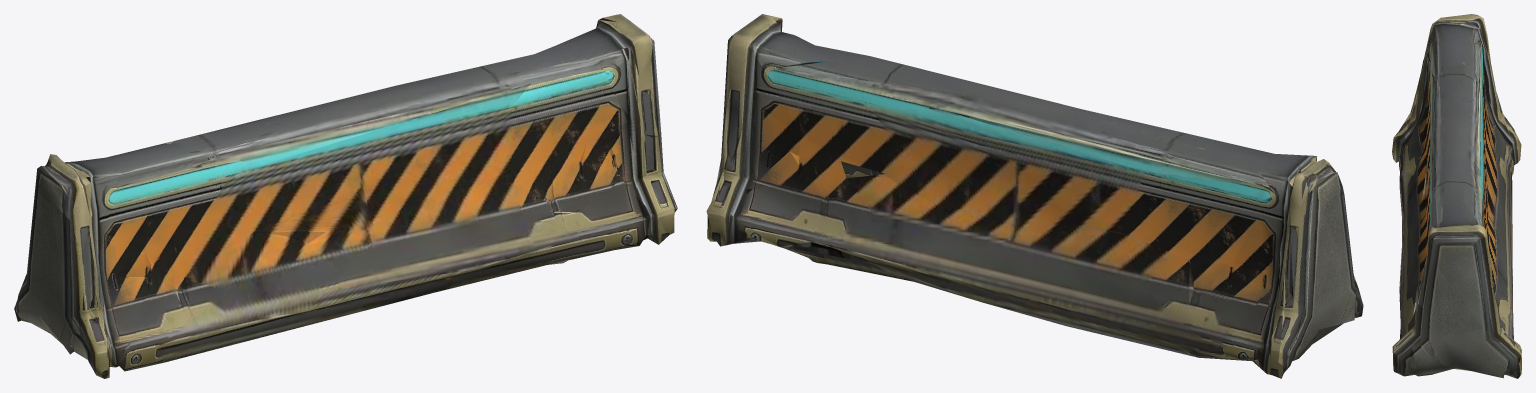
The model's file is barricade.glb.
The picture shows the model from 3 angles, left to right: view 1: azimuth 30°, elevation 25°; view 2: azimuth 150°, elevation 25°; view 3: azimuth 270°, elevation 25°; orthographic projection. The views are drawn at different scales.
Parts seen in each view (by area): view 1: output_unwrapped_game; view 2: output_unwrapped_game; view 3: output_unwrapped_game.
Part boxes in pixels (x1,y1,x2,y2): output_unwrapped_game: (14,14,677,378); output_unwrapped_game: (706,14,1363,378); output_unwrapped_game: (1392,14,1521,378).
Size of the model in its own units: 0.9873 by 0.3103 by 0.2382.
Materials: 1 (1 with a texture image).
